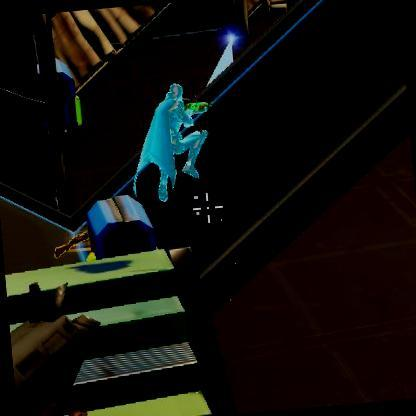person: (146, 86, 214, 176)
